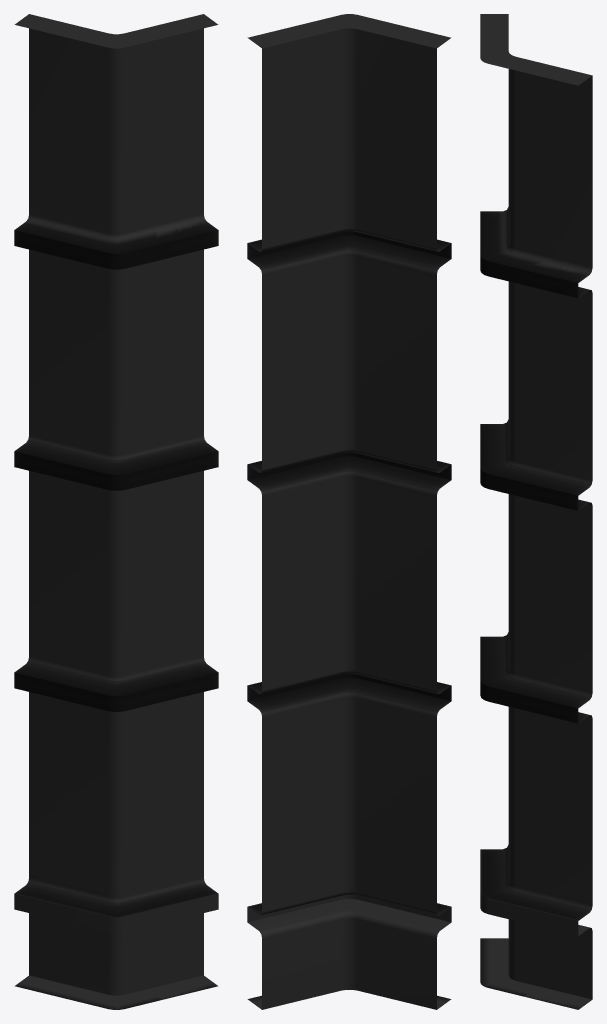
Rendered from OBT_MIN_SW.fbx.
The picture shows the model from 3 angles, left to right: view 1: azimuth 30°, elevation 25°; view 2: azimuth 210°, elevation 25°; view 3: azimuth 330°, elevation 25°; orthographic projection. The views are drawn at different scales.
Visible parts, largest first — view 1: OBT_MIN_SW; view 2: OBT_MIN_SW; view 3: OBT_MIN_SW.
Boxes of the visible parts, x1,y1,x2,y2 form: OBT_MIN_SW: (14, 14, 218, 1009); OBT_MIN_SW: (247, 14, 451, 1009); OBT_MIN_SW: (480, 14, 592, 1009).
Bounding box in the file's own units: 0.75 × 4.5 × 0.4955.
